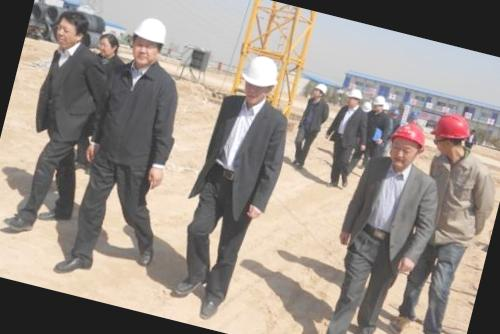no_helmet: (46, 1, 94, 54), (92, 28, 122, 61)
